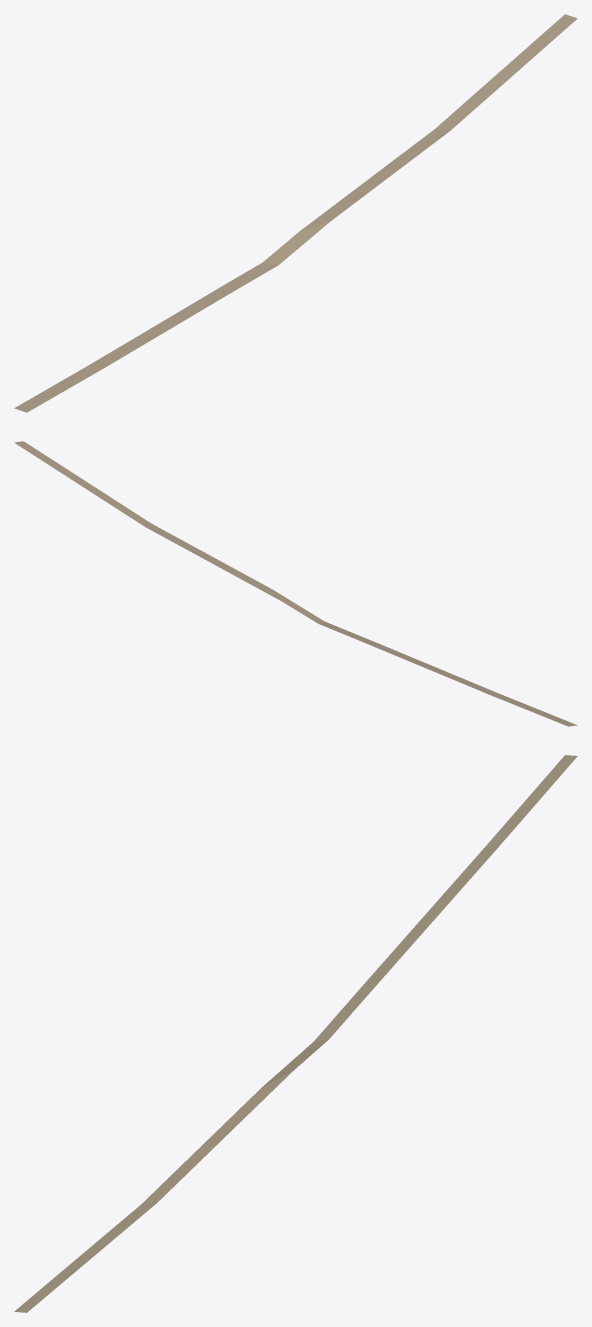
File: farm_0_15_track.glb
3 views of the same model, one above another, from view 1: azimuth 90°, elevation 25°; view 2: azimuth 150°, elevation 25°; view 3: azimuth 270°, elevation 25° (orthographic). The views are drawn at different scales.
Visible parts, largest first — view 1: geometry_0; view 2: geometry_0; view 3: geometry_0.
Part boxes in pixels (<box>): geometry_0: <box>14,14,577,412</box>; geometry_0: <box>14,441,577,726</box>; geometry_0: <box>14,755,577,1312</box>.
Bounding box in the file's own units: 258 × 21.46 × 129.
